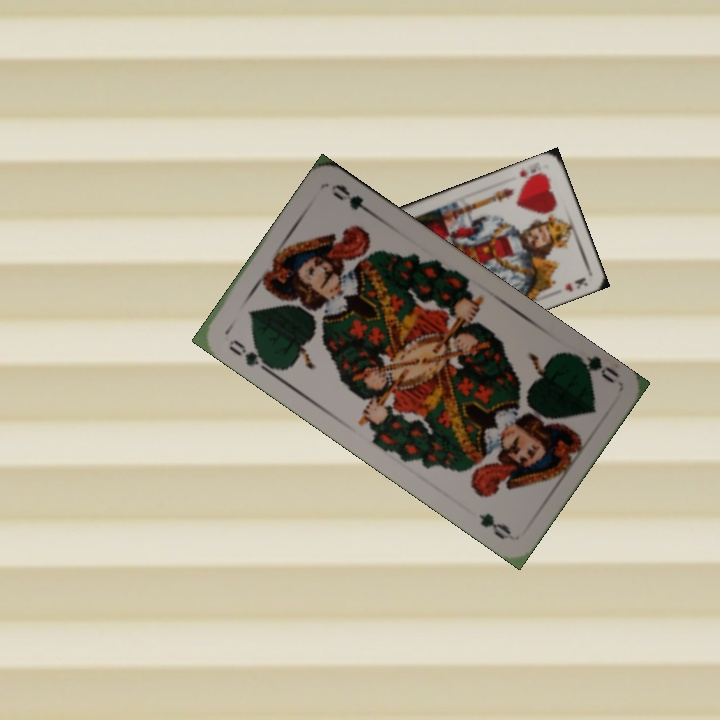GO: (224, 335, 275, 375), (567, 349, 622, 386)
HK: (515, 163, 548, 185)
